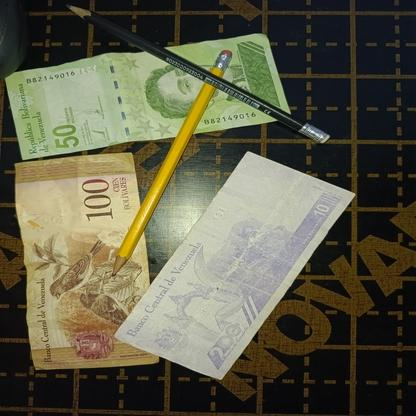fifty-front-vef: (5, 32, 291, 160)
ten-back-vef: (113, 150, 356, 381)
